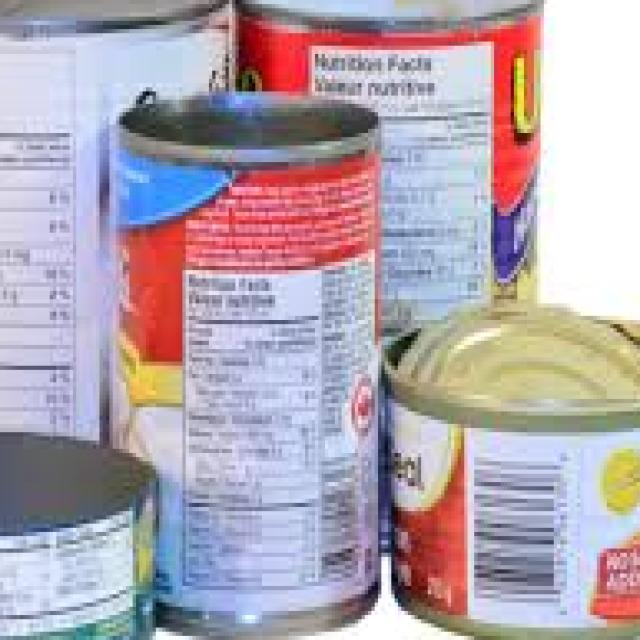organic: (106, 92, 414, 633), (228, 7, 548, 388), (0, 8, 237, 469), (386, 299, 626, 620)
